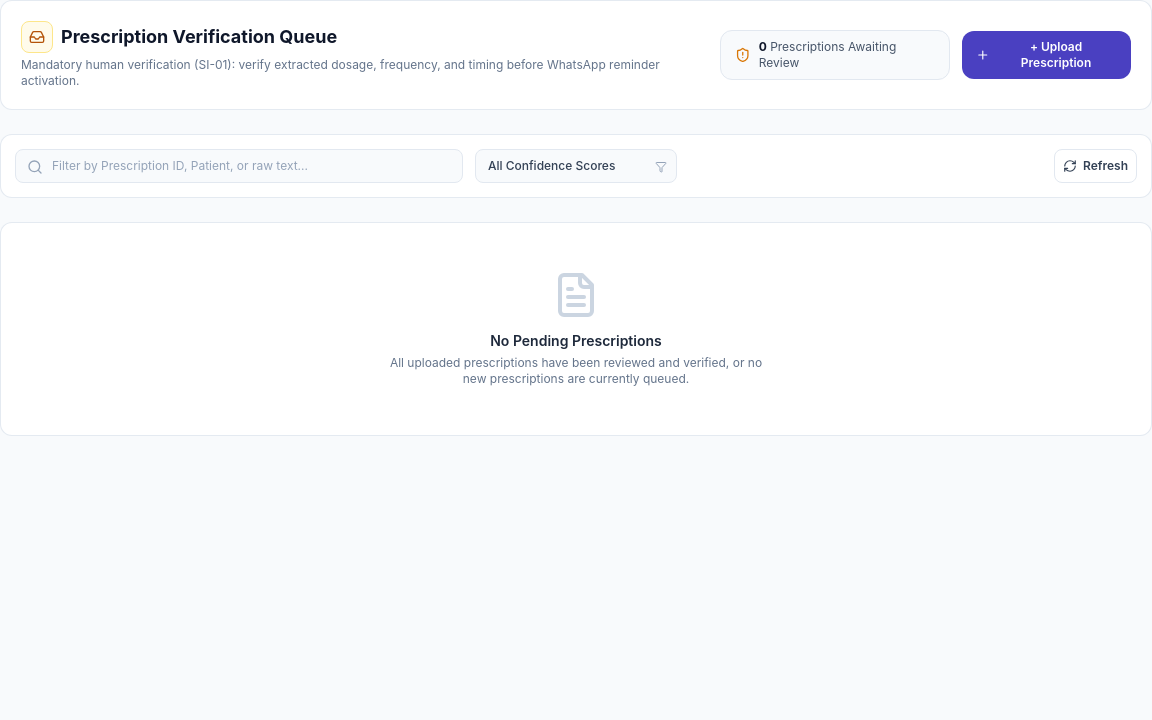
UploadPrescriptionModal Component › 9. PrescriptionsQueuePage opens modal when clicking "+ Upload Prescription"
Click the button "+ Upload Prescription". click: [1046, 55]
box: [962, 31, 1131, 79]
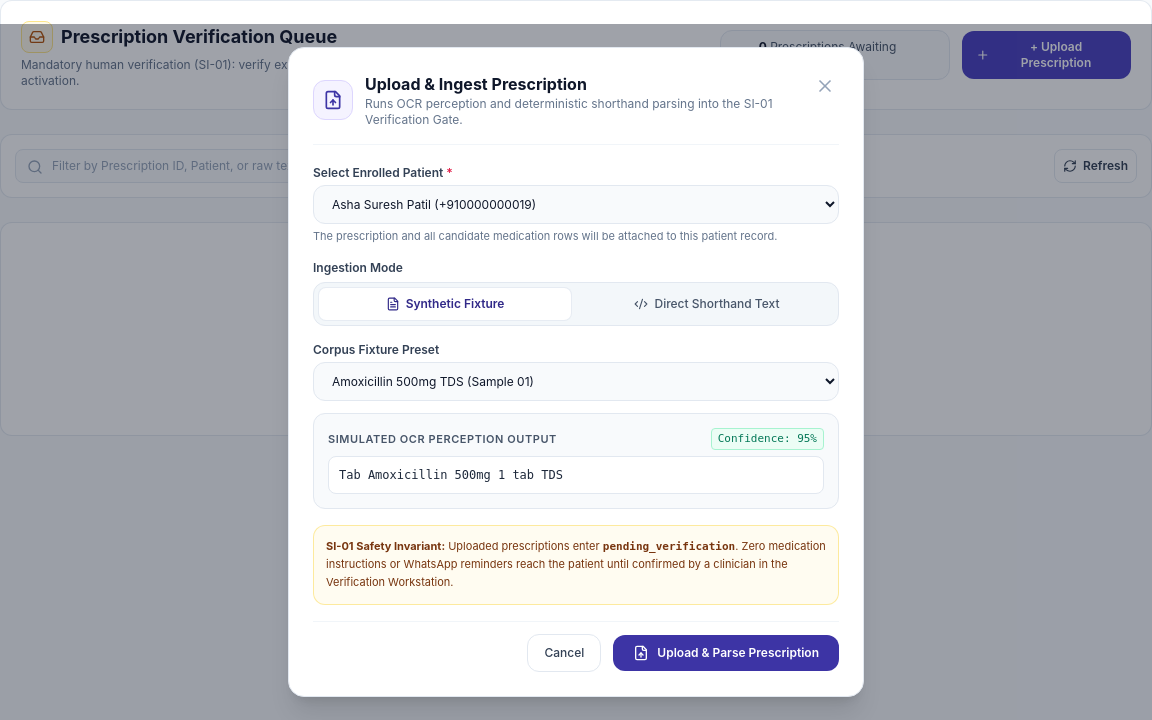
Result: the dialog is shown
Result: the heading "Upload & Ingest Prescription" is shown at [365, 74, 587, 94]
